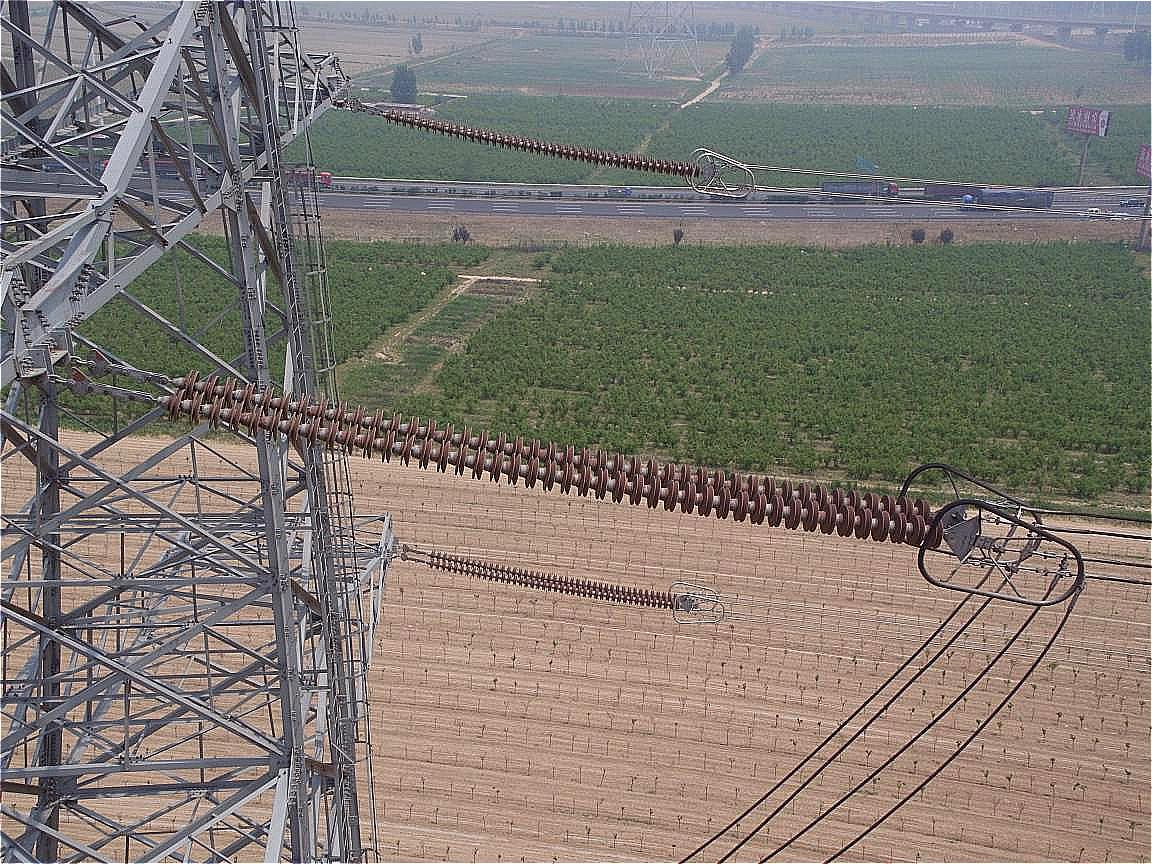insultor2: (172, 370, 946, 548), (388, 107, 701, 180), (429, 548, 680, 616)
